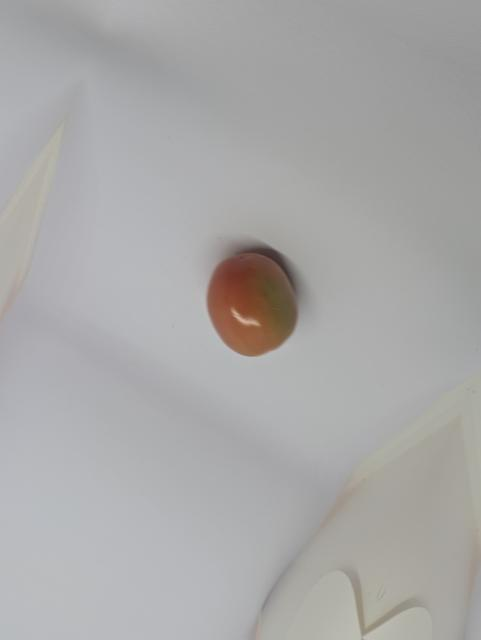turning: (205, 245, 309, 366)
